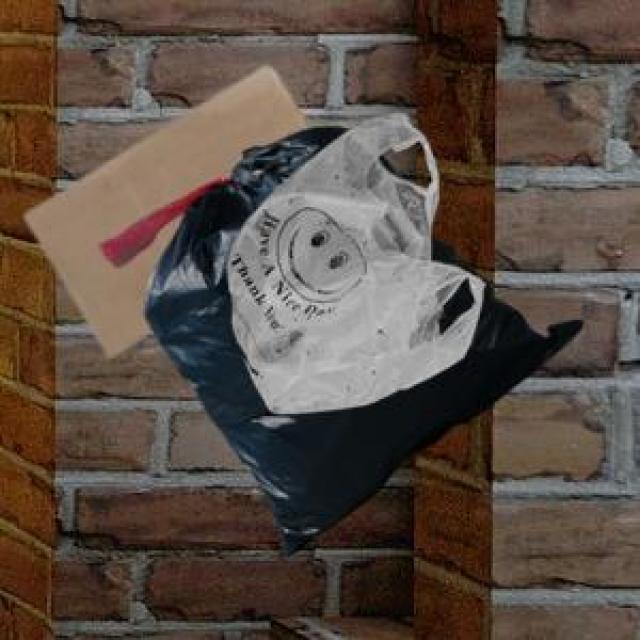miscellaneous trash: (96, 124, 578, 555)
paper: (21, 64, 307, 352)
